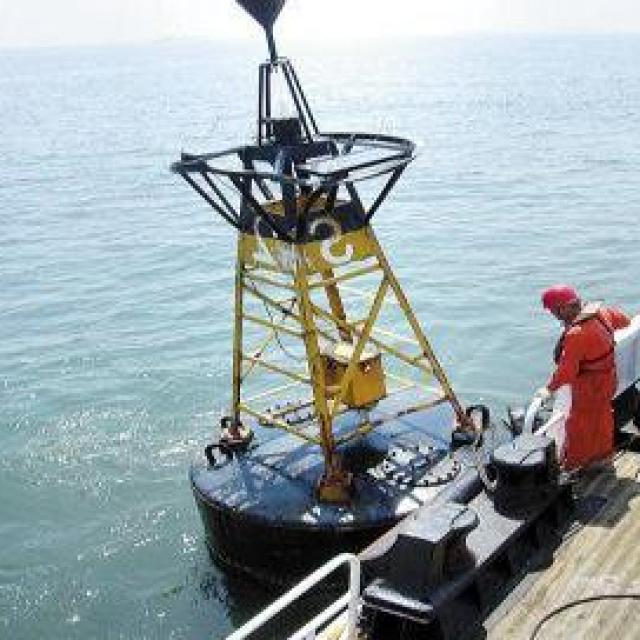buoy: (172, 0, 513, 572)
